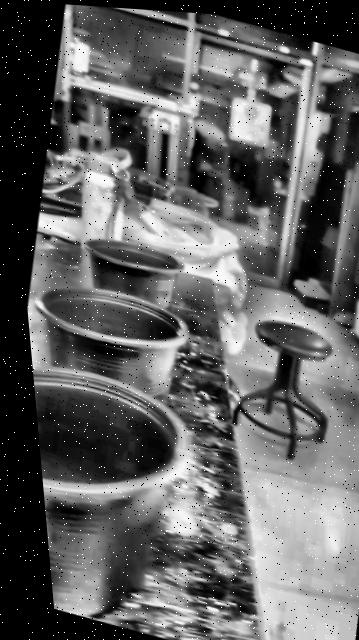pot: (24, 270, 212, 516), (33, 366, 188, 617), (35, 288, 187, 400), (83, 239, 182, 308)
